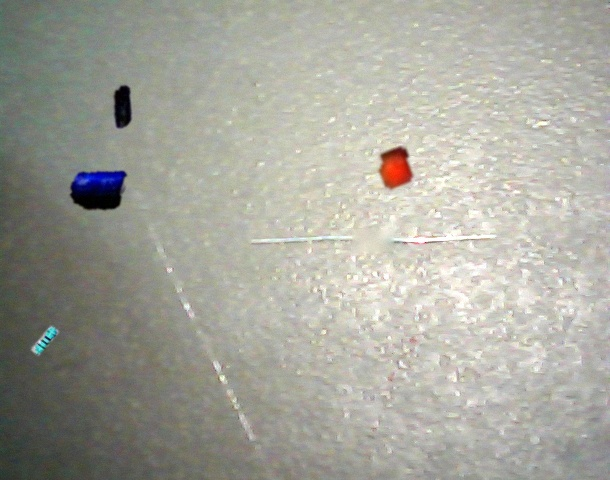capacitor: (70, 171, 127, 210), (379, 147, 413, 189), (114, 85, 133, 129)
resistor: (31, 326, 59, 356)
